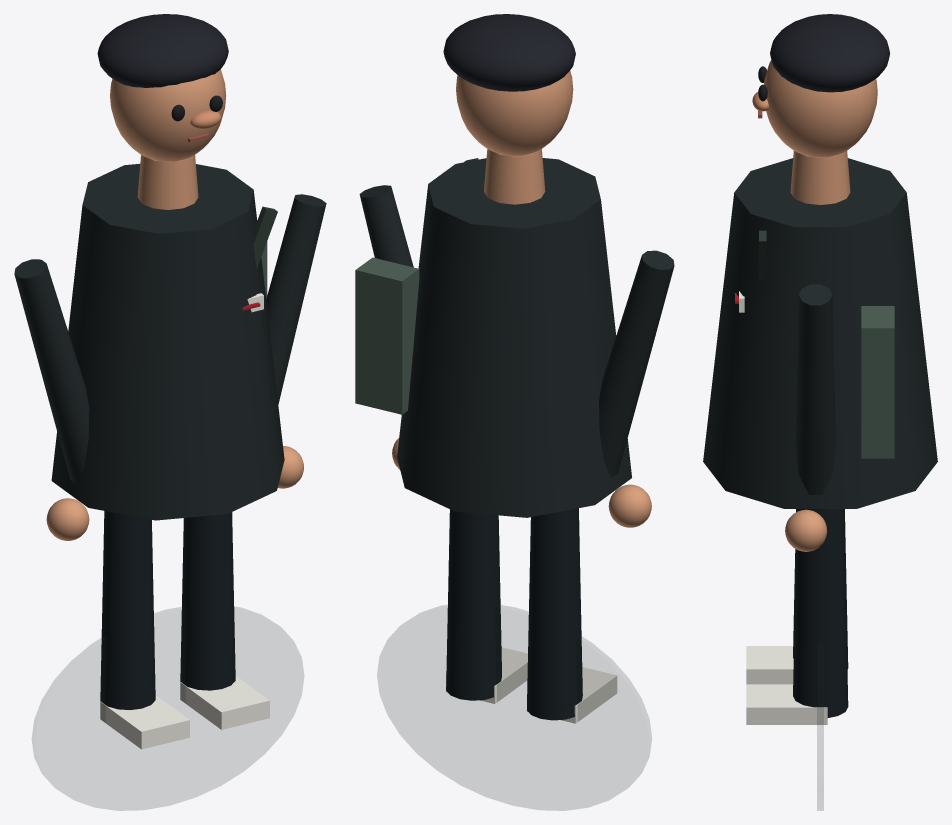
The model's file is player_male_black.glb.
3 views of the same model, side by side, from view 1: azimuth 30°, elevation 25°; view 2: azimuth 150°, elevation 25°; view 3: azimuth 270°, elevation 25° (orthographic). The views are drawn at different scales.
Parts seen in each view (by area): view 1: torso, contact_shadow, leg_-0.095, leg_0.095, hair_cap, arm_-0.255, head, arm_0.255, shoe_-0.095, shoe_0.095, neck, hand_-0.255 (+2 smaller); view 2: torso, contact_shadow, leg_-0.095, leg_0.095, shoulder_bag, hair_cap, arm_-0.255, head, neck, arm_0.255, hand_-0.255, shoe_-0.095 (+1 smaller); view 3: torso, leg_0.095, arm_0.255, hair_cap, head, shoulder_bag, neck, shoe_0.095, shoe_-0.095, hand_0.255, contact_shadow.
Part boxes in pixels (x1=…): torso: x1=51, y1=163, x2=284, y2=520; contact_shadow: x1=32, y1=607, x2=303, y2=810; leg_-0.095: x1=100, y1=511, x2=155, y2=709; leg_0.095: x1=180, y1=512, x2=235, y2=690; hair_cap: x1=97, y1=14, x2=228, y2=87; arm_-0.255: x1=14, y1=259, x2=89, y2=484; head: x1=110, y1=69, x2=226, y2=161; arm_0.255: x1=266, y1=194, x2=326, y2=404; shoe_-0.095: x1=100, y1=695, x2=189, y2=749; shoe_0.095: x1=180, y1=676, x2=269, y2=729; neck: x1=137, y1=155, x2=198, y2=209; hand_-0.255: x1=46, y1=498, x2=89, y2=540; torso: x1=397, y1=158, x2=631, y2=517; contact_shadow: x1=377, y1=605, x2=651, y2=810; leg_-0.095: x1=527, y1=508, x2=582, y2=720; leg_0.095: x1=446, y1=509, x2=501, y2=700; shoulder_bag: x1=355, y1=257, x2=419, y2=414; hair_cap: x1=443, y1=14, x2=575, y2=91; arm_-0.255: x1=599, y1=250, x2=674, y2=477; head: x1=456, y1=70, x2=573, y2=155; neck: x1=484, y1=149, x2=545, y2=204; arm_0.255: x1=359, y1=185, x2=413, y2=267; hand_-0.255: x1=608, y1=484, x2=651, y2=527; shoe_-0.095: x1=527, y1=667, x2=617, y2=723; torso: x1=703, y1=158, x2=937, y2=508; leg_0.095: x1=793, y1=509, x2=848, y2=717; arm_0.255: x1=795, y1=284, x2=835, y2=510; hair_cap: x1=770, y1=14, x2=889, y2=92; head: x1=764, y1=60, x2=877, y2=157; shoulder_bag: x1=861, y1=306, x2=894, y2=458; neck: x1=790, y1=151, x2=850, y2=204; shoe_0.095: x1=746, y1=684, x2=827, y2=724; shoe_-0.095: x1=746, y1=646, x2=793, y2=684; hand_0.255: x1=785, y1=509, x2=827, y2=551; contact_shadow: x1=817, y1=642, x2=823, y2=810.
Size of the model in its own units: 0.7579 by 1.83 by 0.5096.
